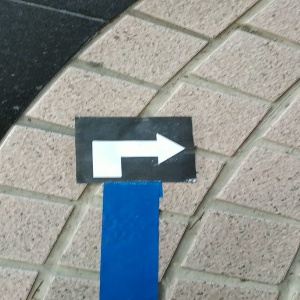right: (74, 115, 196, 182)
